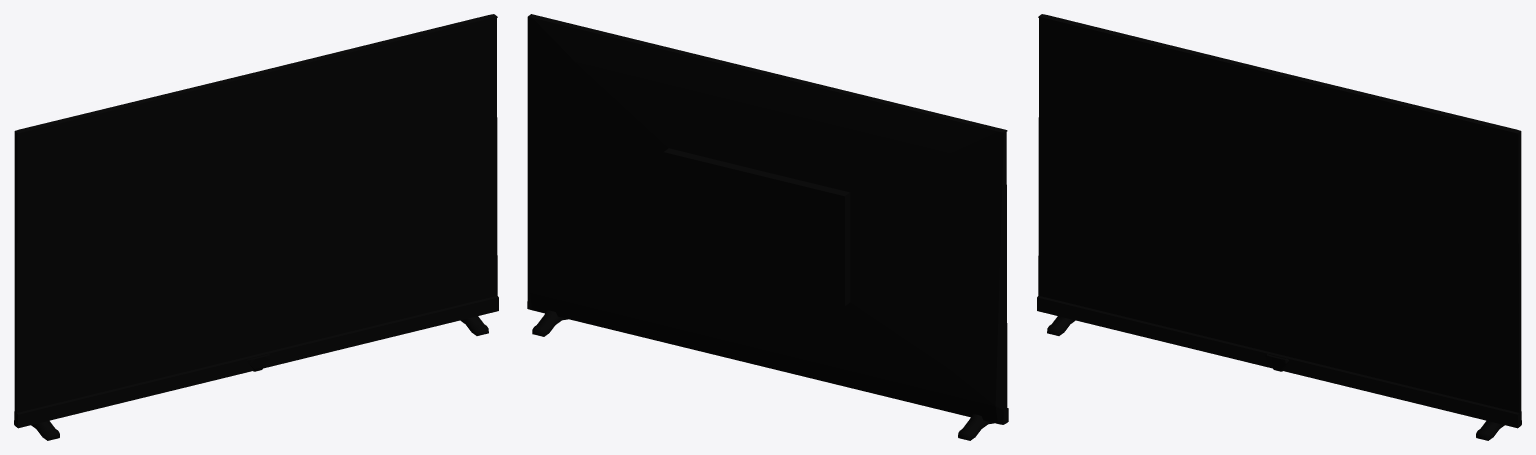
The picture shows the model from 3 angles, left to right: view 1: azimuth 30°, elevation 25°; view 2: azimuth 150°, elevation 25°; view 3: azimuth 330°, elevation 25°; orthographic projection.
Visible parts, largest first — view 1: TV_LED_30_; view 2: TV_LED_30_; view 3: TV_LED_30_.
Boxes of the visible parts, bbox=[...] form: TV_LED_30_: bbox=[14, 14, 498, 440]; TV_LED_30_: bbox=[527, 14, 1008, 440]; TV_LED_30_: bbox=[1037, 14, 1521, 440].
Bounding box in the file's own units: 0.9756 × 0.5903 × 0.1008.
